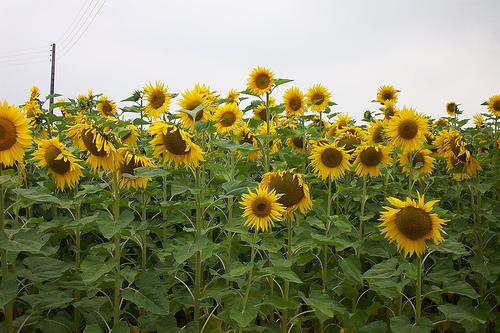sunflower: (379, 197, 445, 257), (32, 135, 83, 193), (74, 119, 125, 172), (148, 125, 203, 170), (259, 169, 312, 215), (0, 103, 34, 169), (308, 142, 352, 182), (240, 187, 282, 228), (388, 111, 431, 147), (352, 142, 393, 176), (118, 153, 154, 190), (396, 147, 436, 180), (180, 88, 215, 122), (143, 80, 170, 117), (214, 99, 242, 131), (281, 85, 306, 117), (248, 68, 275, 95), (307, 84, 332, 113), (375, 84, 399, 107), (94, 95, 116, 119), (487, 95, 500, 115)
